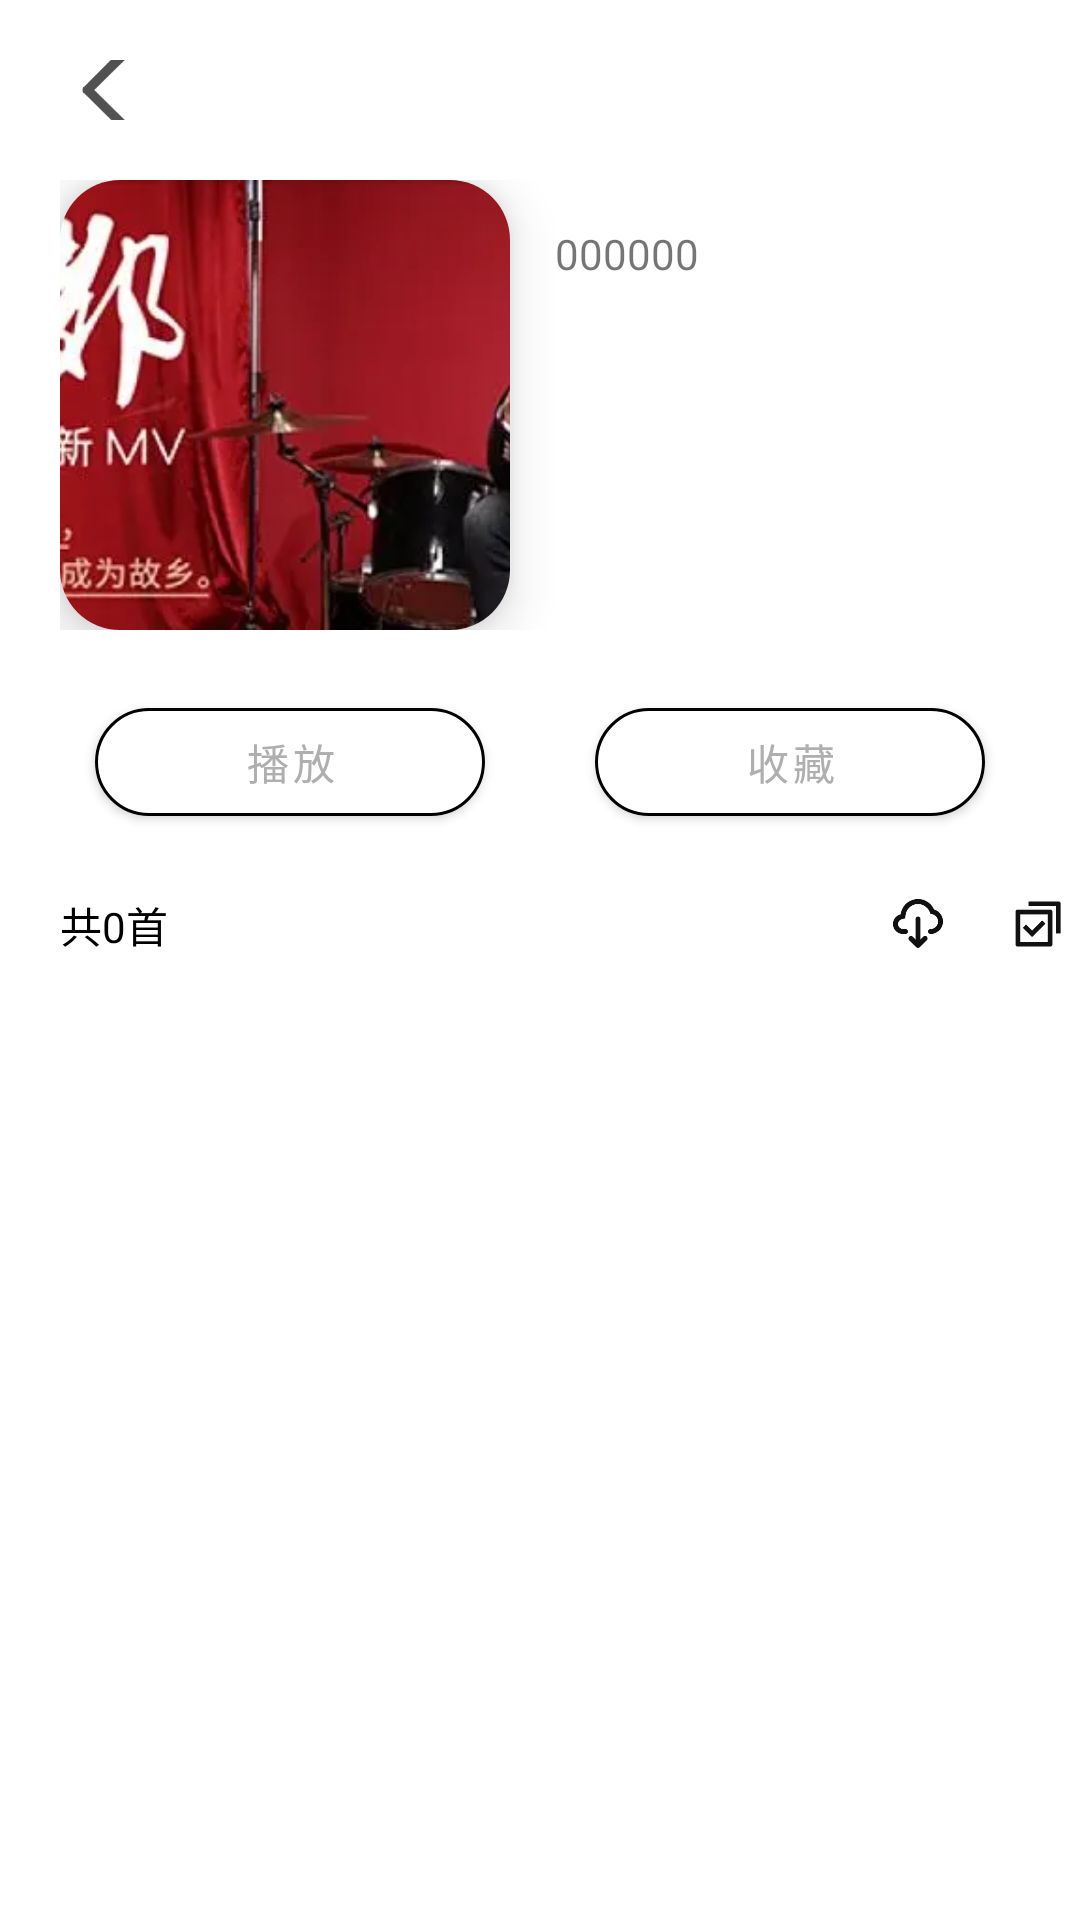

Where icons sit on this 1080 × 1920 app screen, as (x1, y1, x2, y2):
download: (893, 899, 943, 948)
piliang: (1015, 901, 1061, 947)
